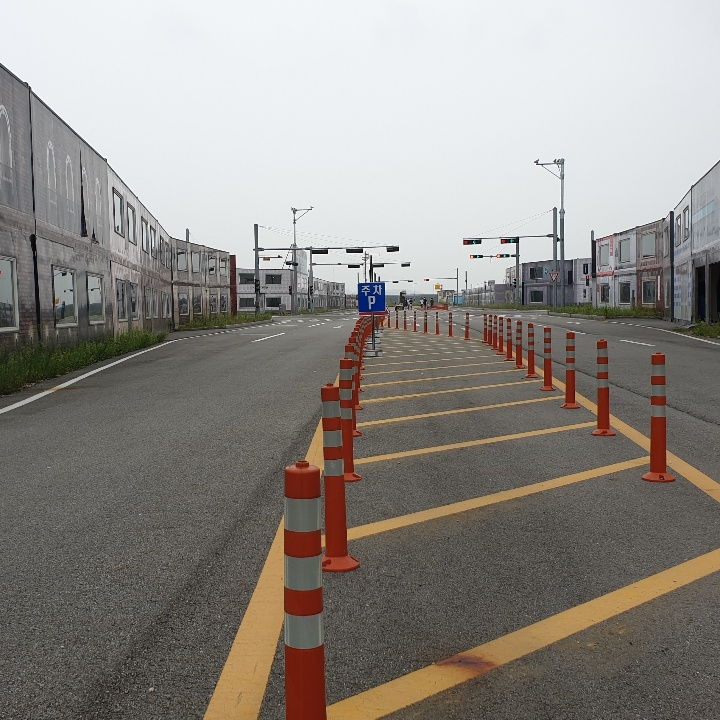parking: (363, 291, 377, 311)
